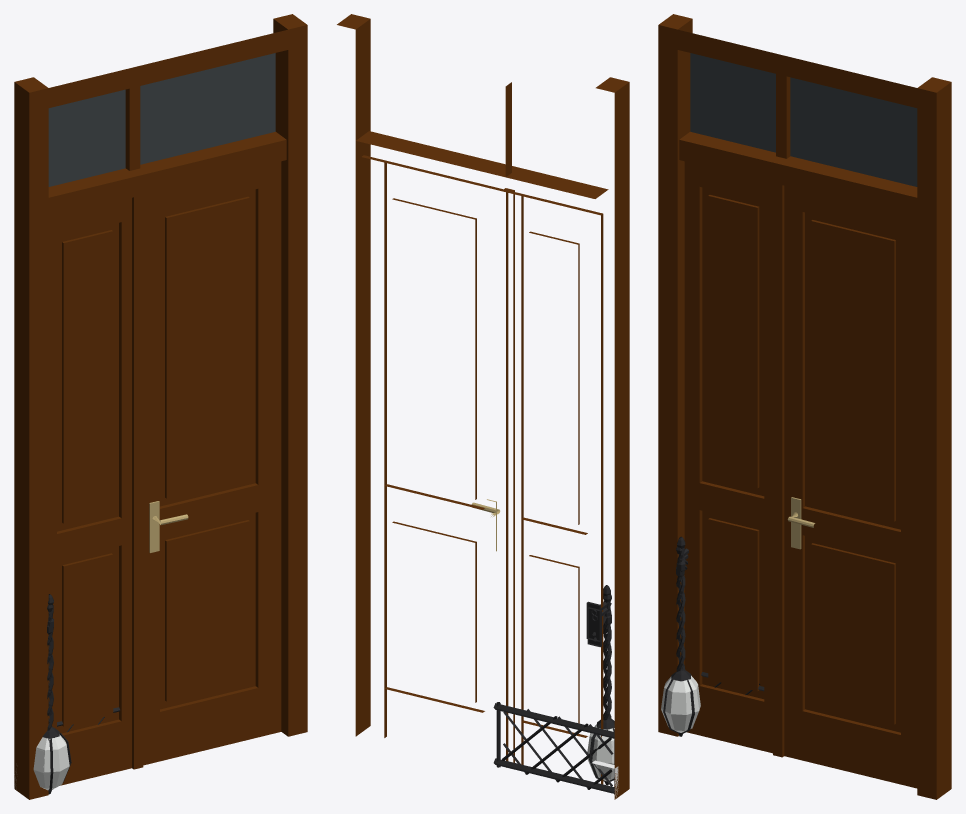
File: msk2-pink-fittings.glb
The picture shows the model from 3 angles, left to right: view 1: azimuth 30°, elevation 25°; view 2: azimuth 150°, elevation 25°; view 3: azimuth 330°, elevation 25°; orthographic projection.
Visible parts, largest first — view 1: door, pendant-r, pendant-l; view 2: door, grille-p, pendant-r, pendant-l; view 3: door, pendant-r, pendant-l.
Part boxes in pixels (x1,y1,x2,y2): door: (14, 14, 307, 799); pendant-r: (36, 594, 71, 793); pendant-l: (33, 604, 69, 794); door: (337, 14, 629, 799); grille-p: (493, 702, 614, 794); pendant-r: (586, 585, 614, 784); pendant-l: (587, 594, 614, 785); door: (658, 14, 951, 799); pendant-r: (661, 536, 700, 736); pendant-l: (661, 546, 693, 736).
Size of the model in its own units: 1.29 by 3.15 by 0.1941.
